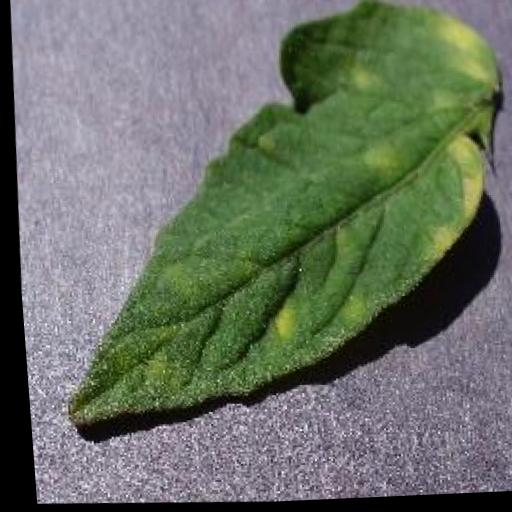Leaf Mold: (34, 0, 512, 439)
